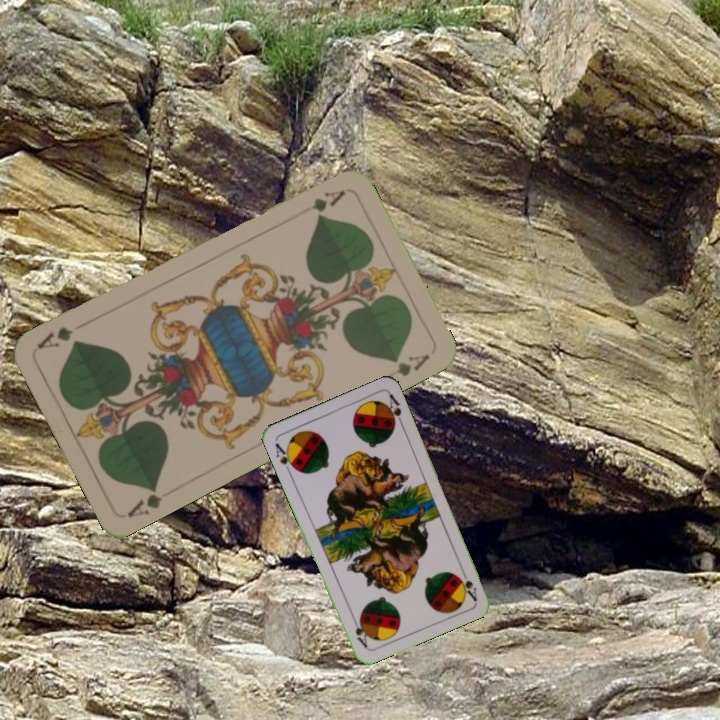GA: (292, 186, 348, 217), (123, 481, 165, 521)
SA: (271, 439, 300, 477), (455, 564, 480, 603)
